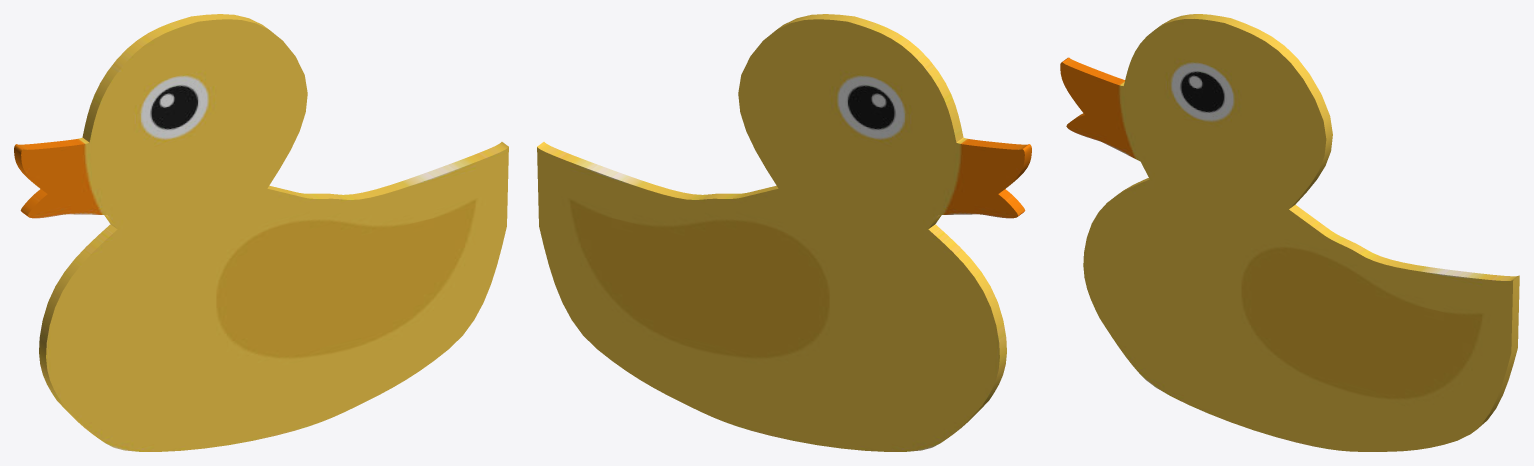
File: Duck Magnet 2.fbx
3 renders of one model, left to right at view 1: azimuth 30°, elevation 25°; view 2: azimuth 150°, elevation 25°; view 3: azimuth 330°, elevation 25°, orthographic. The views are drawn at different scales.
Parts seen in each view (by area): view 1: Duck Magnet 2; view 2: Duck Magnet 2; view 3: Duck Magnet 2.
Part boxes in pixels (x1,y1,x2,y2): Duck Magnet 2: (14,14,508,451); Duck Magnet 2: (537,14,1031,451); Duck Magnet 2: (1060,14,1519,451).
Bounding box in the file's own units: 39.66 × 33.64 × 1.
Materials: 1 (1 with a texture image).
